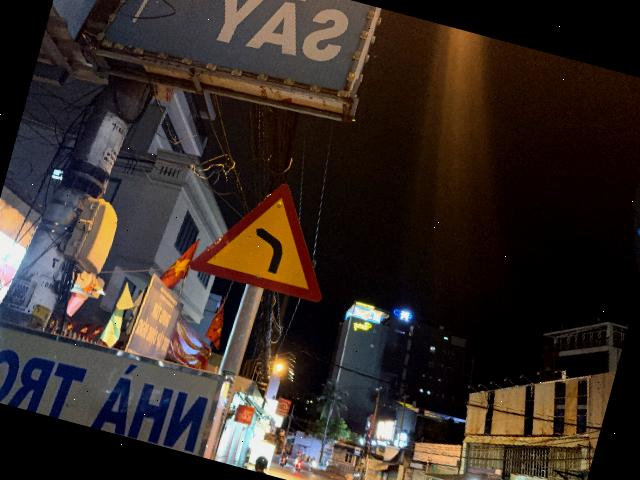cho-ngoat-nguy-hiem-ben-phai: (186, 163, 349, 306)
